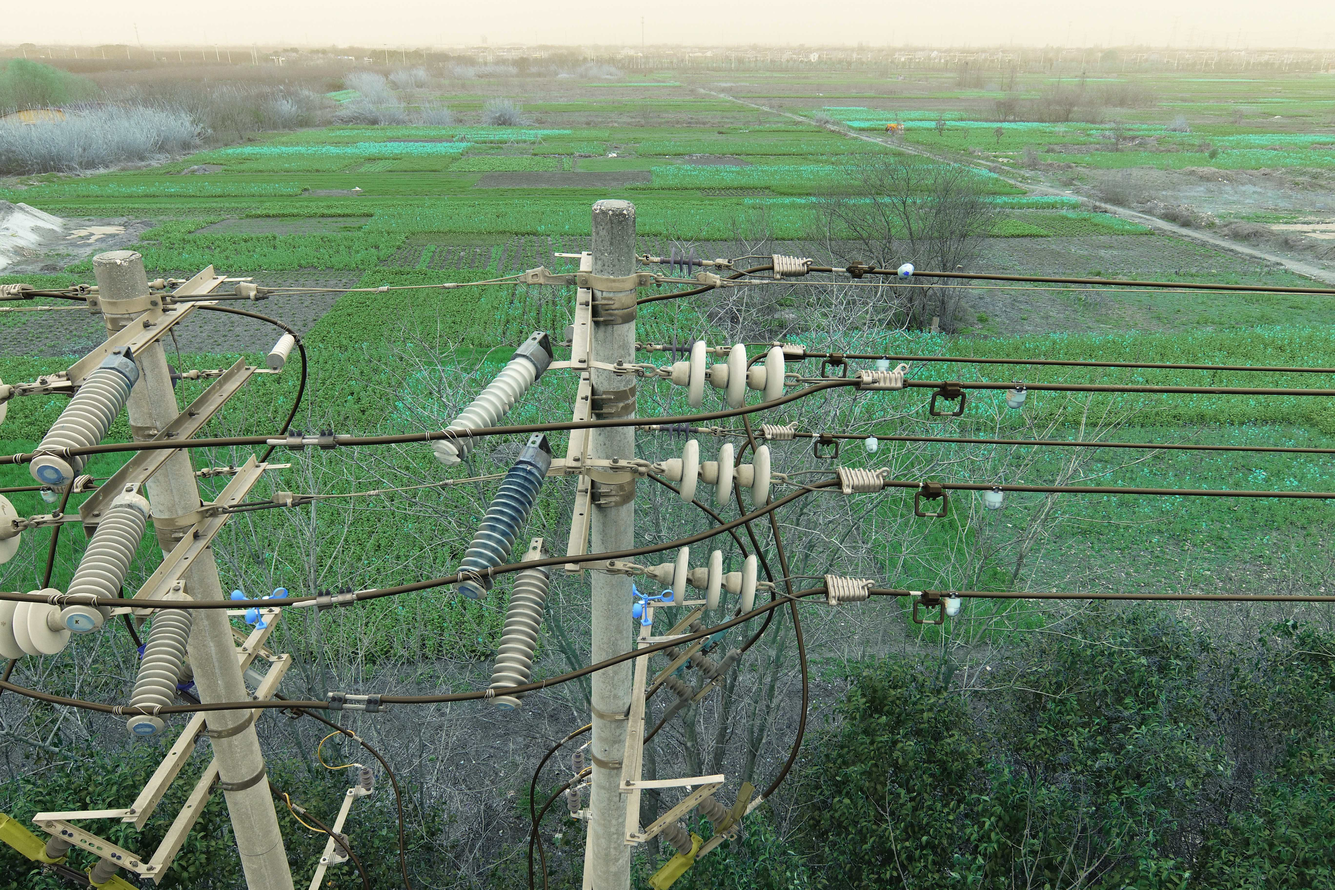severe_soiling_no_discharge_whole: (449, 429, 555, 602)
